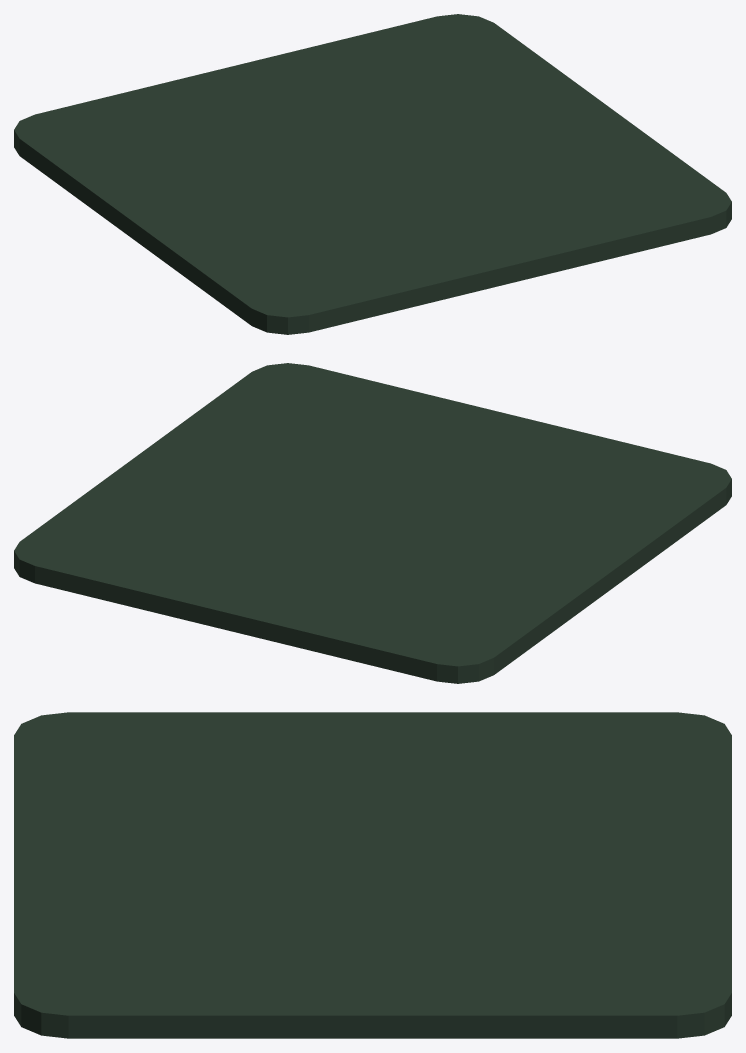
Rendered from nori.glb.
3 views of the same model, one above another, from view 1: azimuth 30°, elevation 25°; view 2: azimuth 150°, elevation 25°; view 3: azimuth 270°, elevation 25° (orthographic). The views are drawn at different scales.
Parts seen in each view (by area): view 1: FoodIngredient_Nori; view 2: FoodIngredient_Nori; view 3: FoodIngredient_Nori.
Part boxes in pixels (box(x1,y1,x2,y2)): FoodIngredient_Nori: box(14, 14, 731, 334); FoodIngredient_Nori: box(14, 363, 731, 683); FoodIngredient_Nori: box(14, 712, 731, 1038).
Bounding box in the file's own units: 1.01 × 0.0357 × 1.01.
1 material, 1 textured.
